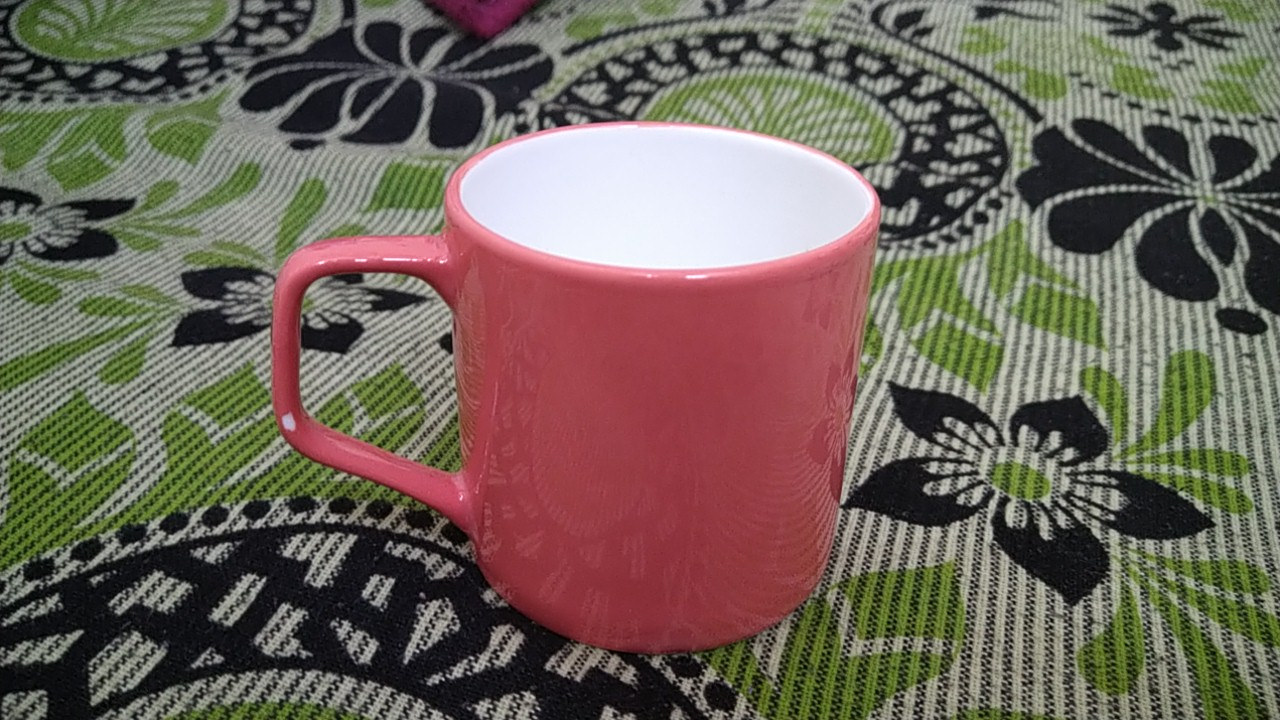cup: (260, 109, 892, 661)
